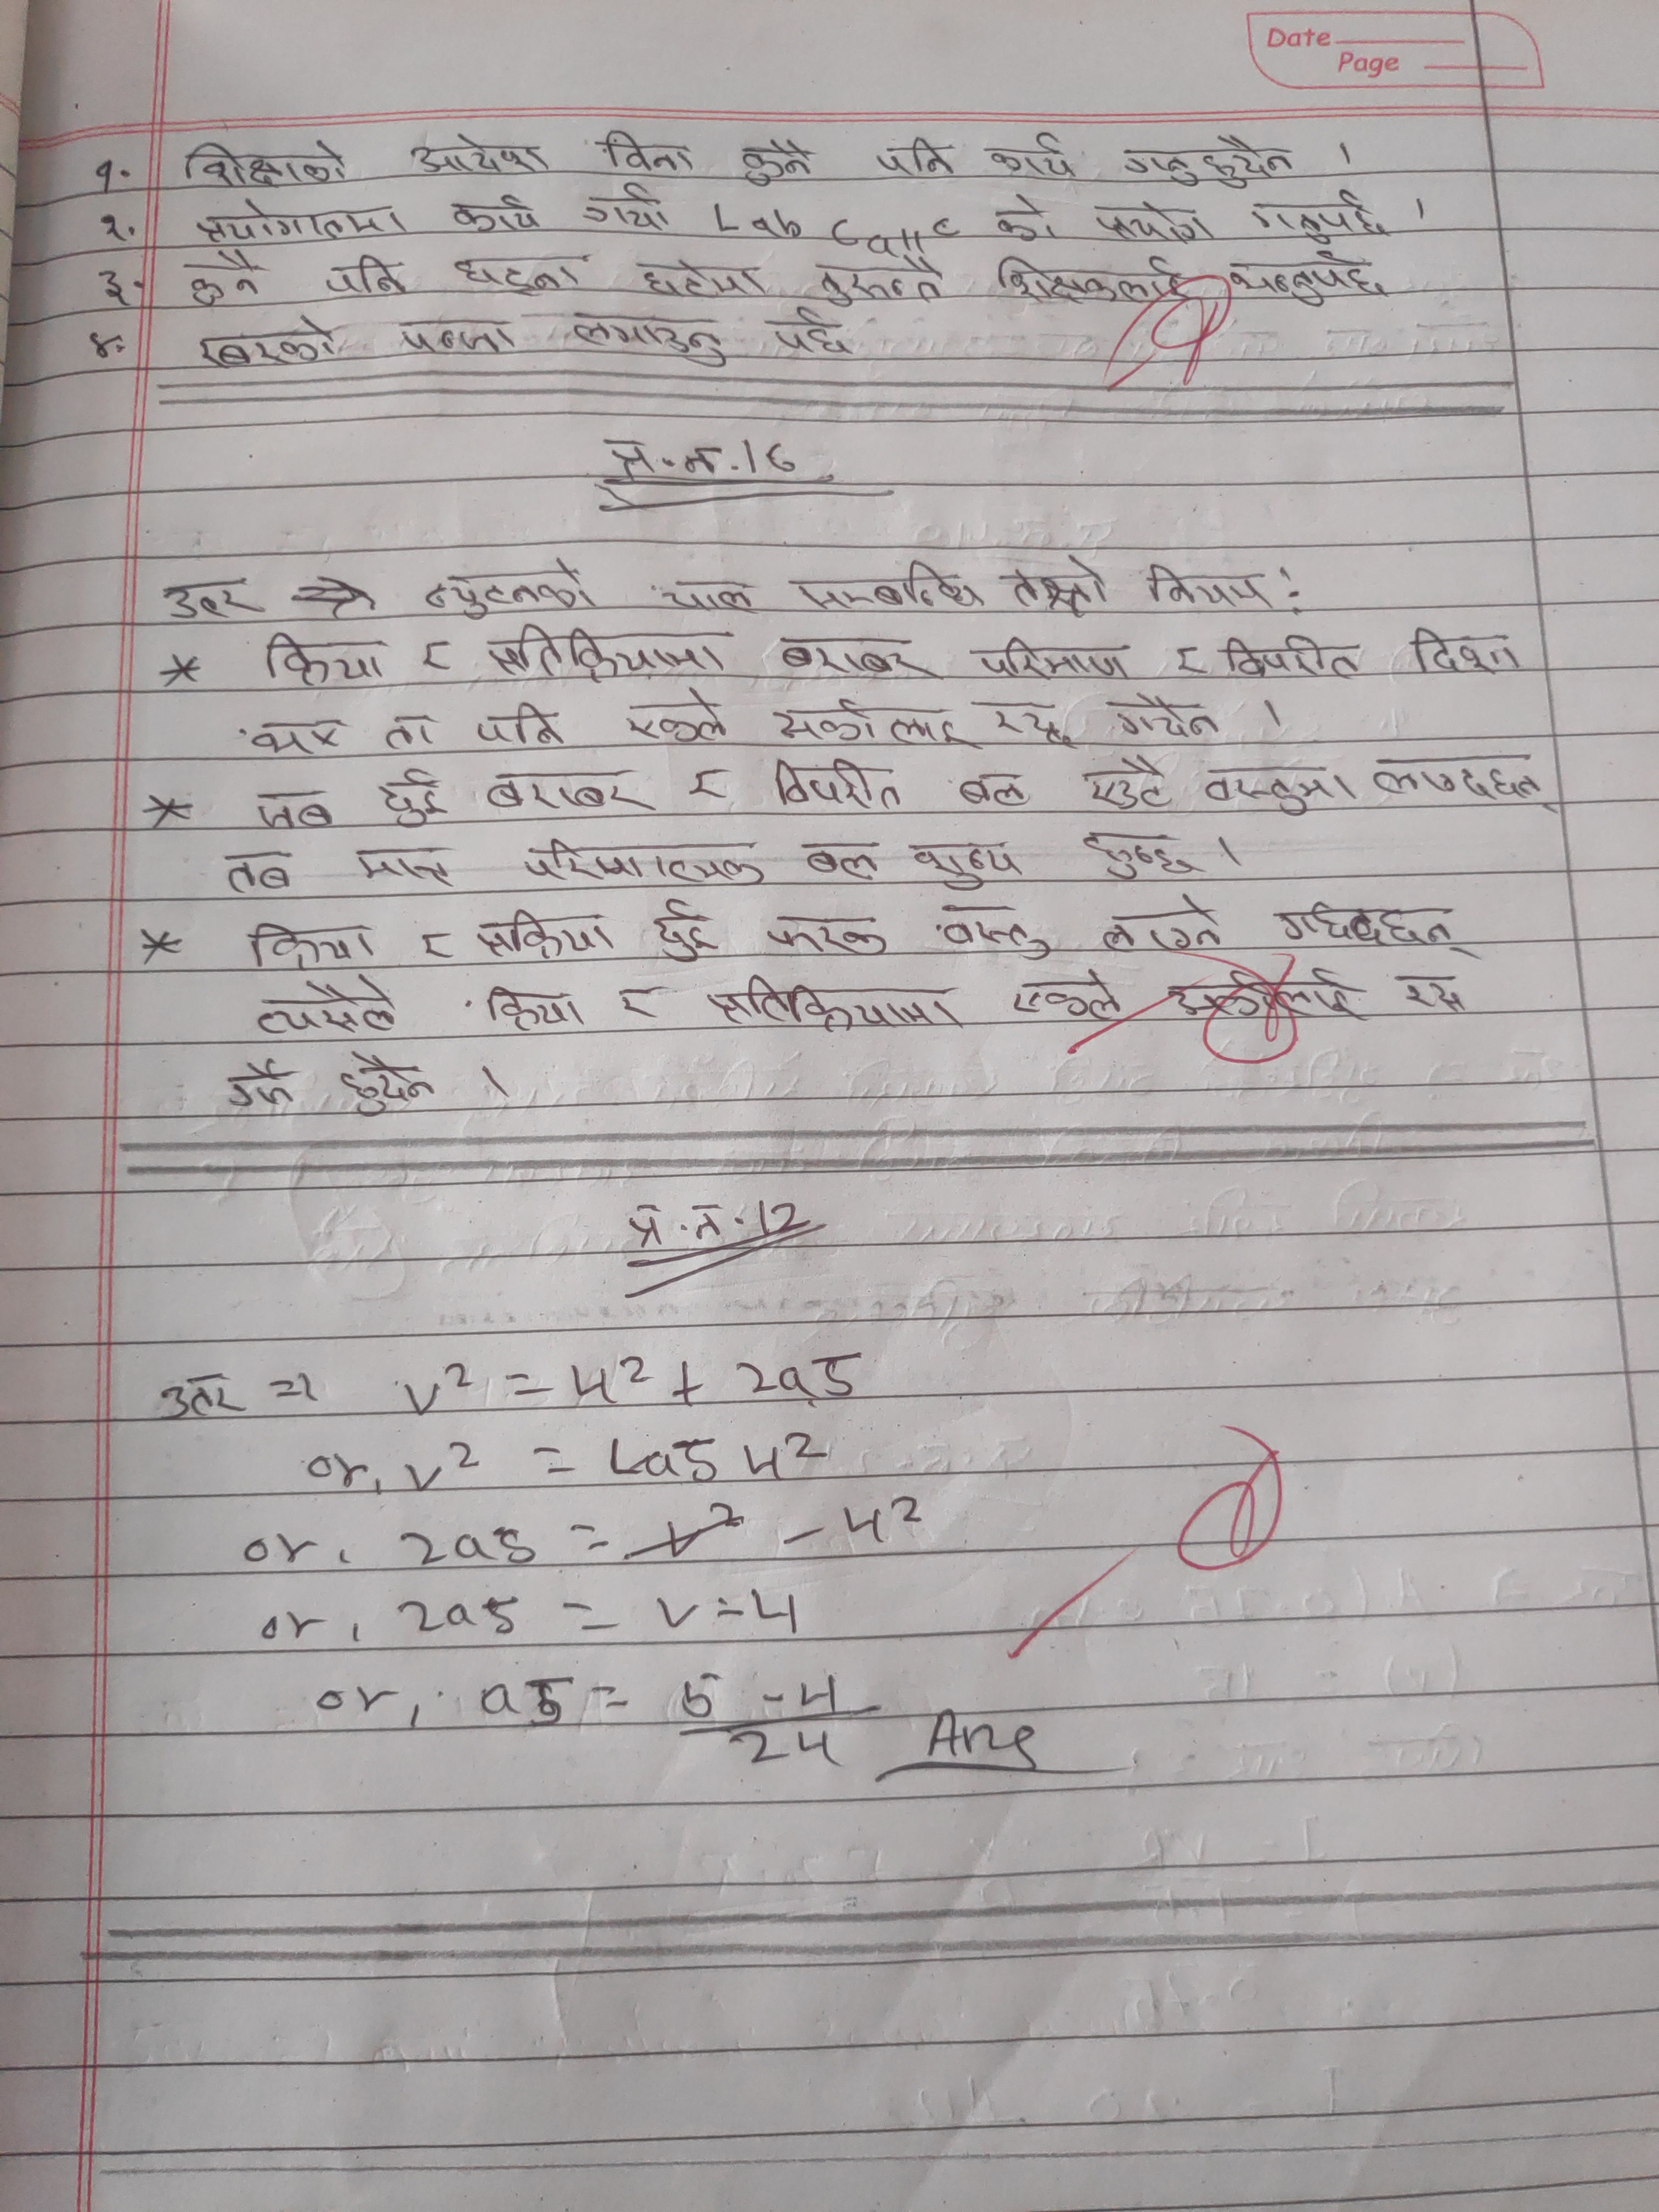text: (702, 975, 978, 1038), (514, 831, 770, 892), (486, 625, 735, 681), (1276, 899, 1483, 963), (990, 251, 1195, 314), (1368, 751, 1561, 813), (770, 695, 972, 754), (413, 559, 606, 620), (789, 554, 988, 611), (1114, 134, 1304, 190), (1169, 968, 1366, 1021), (566, 310, 734, 371), (192, 195, 408, 242), (176, 134, 350, 190), (246, 977, 396, 1040), (1218, 624, 1363, 688), (193, 310, 342, 371), (1229, 251, 1392, 305), (465, 909, 626, 963), (479, 765, 647, 815), (1094, 890, 1222, 956), (976, 631, 1138, 681), (767, 751, 904, 810), (775, 634, 932, 685), (1244, 192, 1394, 244), (1204, 759, 1354, 812), (1138, 554, 1274, 611), (451, 246, 587, 300), (261, 631, 385, 690), (810, 254, 955, 305), (1077, 826, 1199, 885), (633, 249, 770, 301), (934, 906, 1058, 963), (235, 921, 380, 970), (763, 906, 892, 960), (331, 1052, 439, 1116), (403, 134, 552, 179), (1098, 688, 1222, 742), (598, 428, 725, 481), (1094, 197, 1220, 249), (619, 690, 728, 749), (906, 840, 1026, 894), (1009, 554, 1112, 617), (1406, 624, 1521, 679), (1004, 972, 1117, 1028), (160, 570, 261, 629), (575, 181, 678, 239), (399, 312, 528, 357), (343, 838, 455, 890), (1079, 756, 1173, 817), (615, 1197, 727, 1247), (594, 127, 697, 181), (647, 894, 720, 968), (181, 249, 274, 308), (371, 765, 451, 833), (981, 693, 1075, 751), (153, 1372, 247, 1426), (657, 573, 763, 618), (450, 192, 544, 242), (246, 786, 340, 836), (481, 988, 584, 1033), (223, 1057, 303, 1113), (985, 134, 1079, 181), (730, 139, 821, 188), (870, 134, 957, 185), (471, 700, 563, 747), (322, 256, 410, 301), (990, 192, 1065, 244), (765, 312, 845, 361), (950, 765, 1032, 812), (798, 838, 880, 883), (211, 850, 295, 892), (1392, 970, 1464, 1014), (249, 721, 345, 752), (676, 765, 734, 808), (603, 982, 660, 1026), (378, 712, 434, 754), (410, 637, 460, 683), (415, 921, 455, 970), (1164, 644, 1215, 678), (85, 265, 129, 301), (94, 152, 125, 186), (89, 331, 125, 361), (98, 211, 127, 242)
